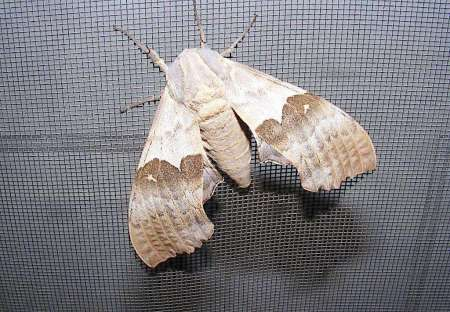feie: (98, 25, 377, 265)
